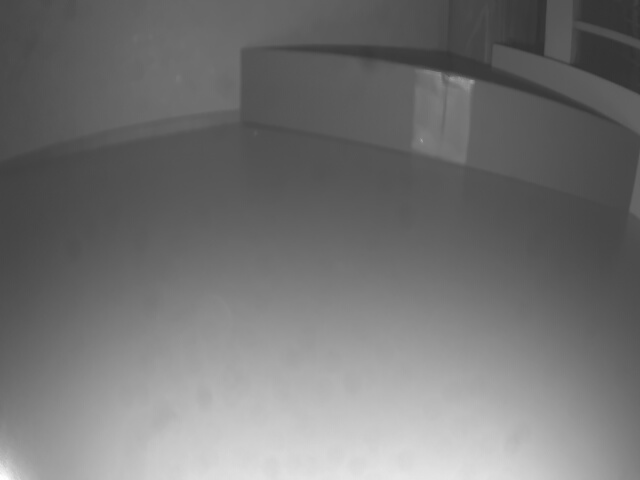Point: (235, 49, 635, 212)
